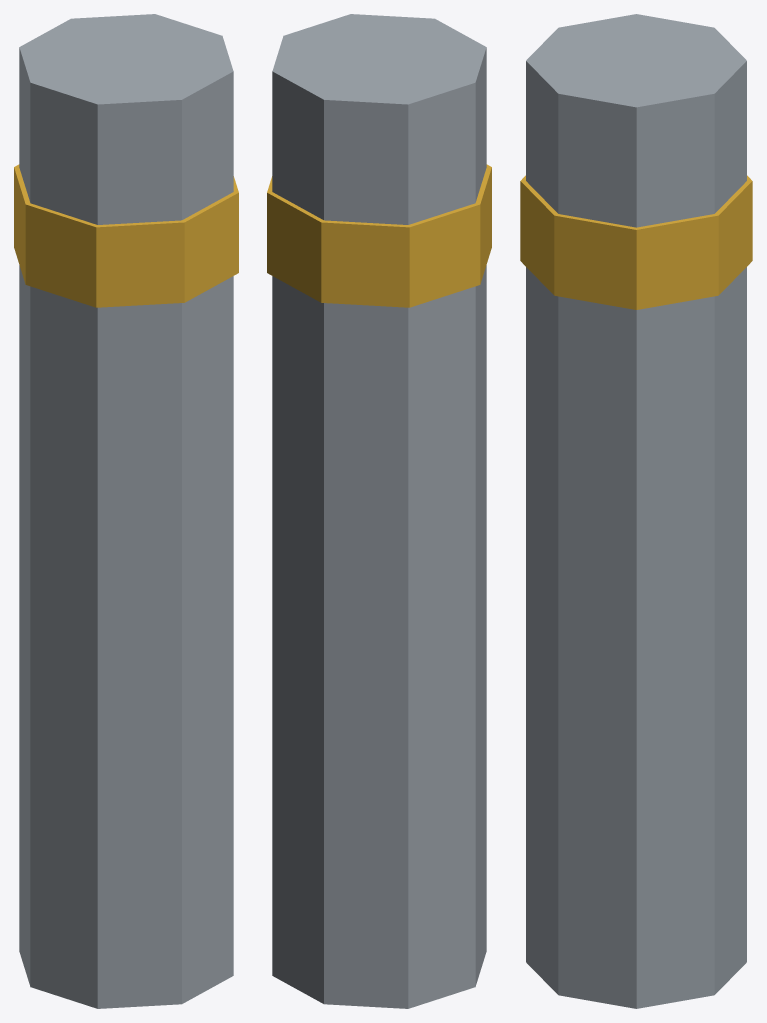
Rendered from Bollard.glb.
3 views of the same model, side by side, from view 1: azimuth 30°, elevation 25°; view 2: azimuth 150°, elevation 25°; view 3: azimuth 270°, elevation 25° (orthographic).
Visible parts, largest first — view 1: Bollard_Metal, Bollard_PaintYellow; view 2: Bollard_Metal, Bollard_PaintYellow; view 3: Bollard_Metal, Bollard_PaintYellow.
Part boxes in pixels (box(x1,y1,x2,y2)): Bollard_Metal: box(19, 14, 233, 1008); Bollard_PaintYellow: box(14, 164, 238, 307); Bollard_Metal: box(272, 14, 486, 1008); Bollard_PaintYellow: box(267, 164, 491, 307); Bollard_Metal: box(526, 14, 746, 1008); Bollard_PaintYellow: box(520, 175, 752, 309).
Size of the model in its own units: 0.21 by 0.9 by 0.21.
